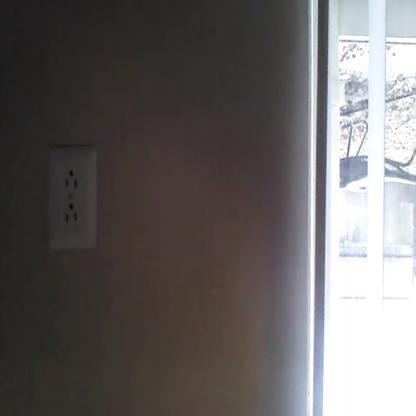OUTLET: (49, 146, 97, 250)
